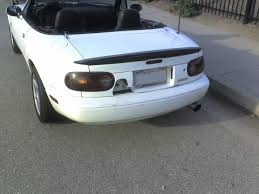Dent: (104, 77, 145, 112)
